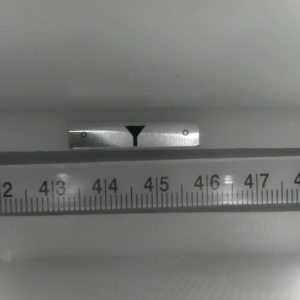2: (2, 181, 12, 197)
3: (55, 180, 65, 195)
4: (37, 181, 48, 196), (143, 177, 153, 192), (105, 178, 115, 193), (243, 174, 253, 188), (193, 176, 203, 190), (91, 179, 101, 193), (293, 171, 300, 187)
5: (159, 176, 168, 191)
6: (209, 175, 219, 190)
7: (259, 173, 269, 188)
finger: (123, 126, 145, 147)
